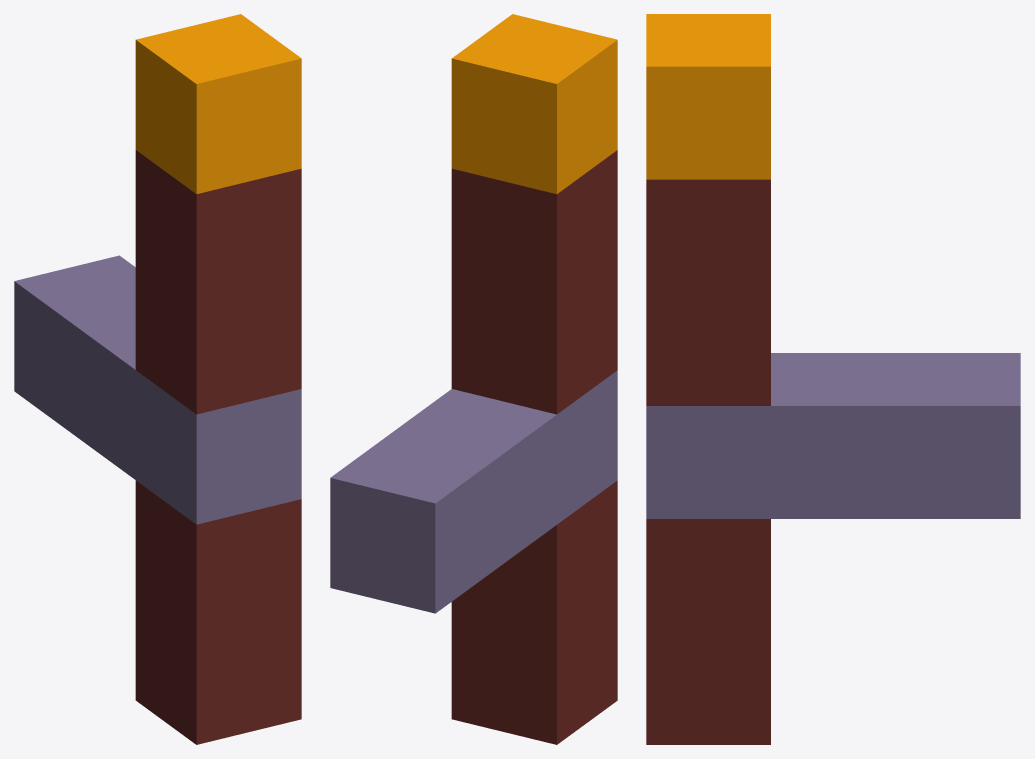
File: wall_torch_b_a.obj
3 renders of one model, left to right at view 1: azimuth 30°, elevation 25°; view 2: azimuth 150°, elevation 25°; view 3: azimuth 270°, elevation 25°, orthographic. The views are drawn at different scales.
Bounding box in the file's own units: 0.1 × 0.6 × 0.3.
Materials: 1 (1 with a texture image).
